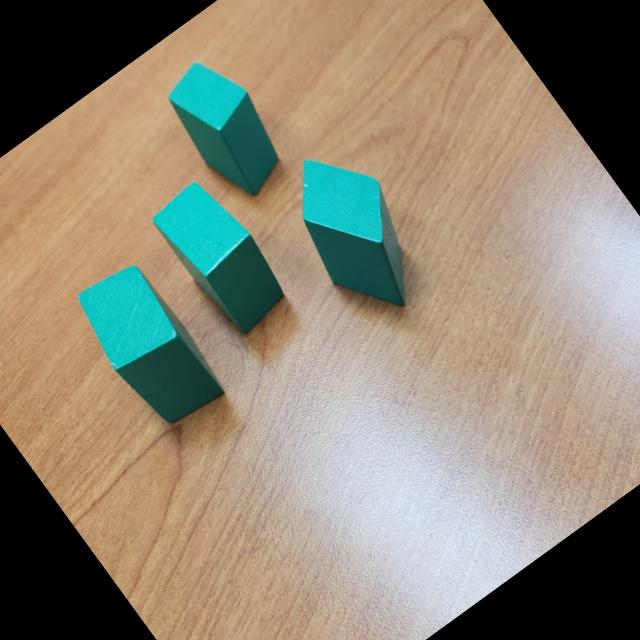green: (264, 130, 447, 331), (65, 252, 232, 438), (146, 172, 296, 340), (152, 46, 300, 208)
